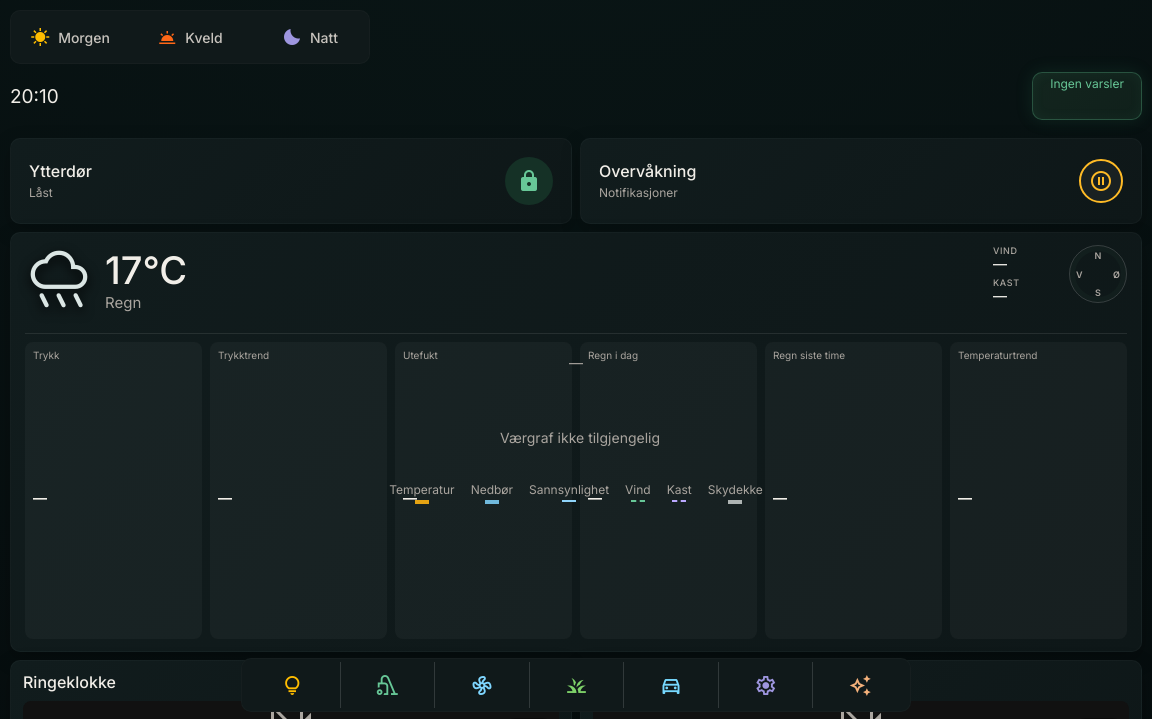
Test: redesigned dashboard › opens the heat-pump card from the bottom fan control and can close it
Click the button named "Styr klimaanlegg": (481, 685) [434,662,529,708]
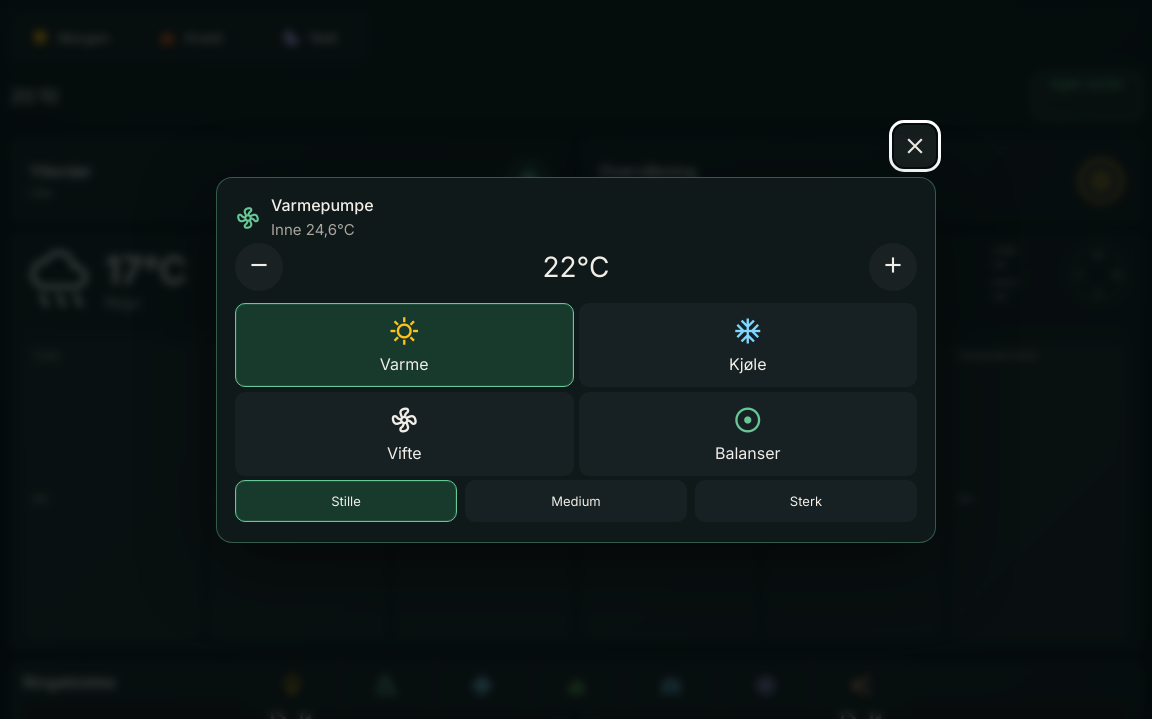
Expected: the dialog "Varmepumpe" is shown
Press Escape in the dialog "Varmepumpe", box [216,177,936,543]
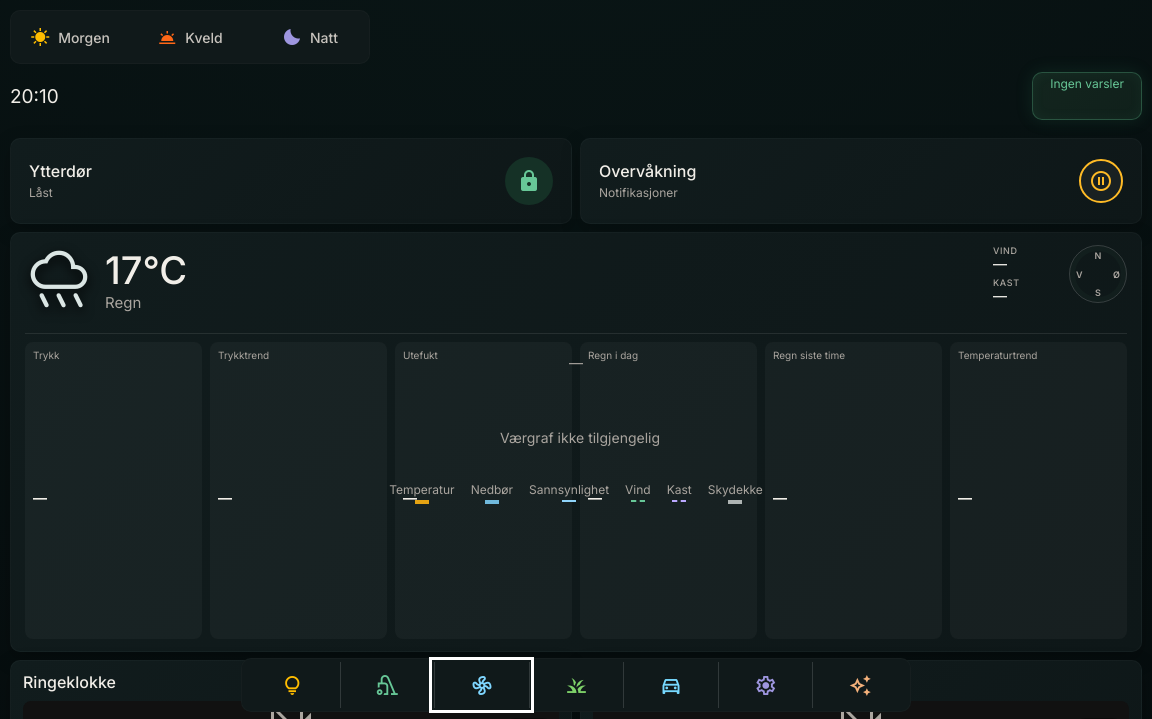
Expected: the heading "Varmepumpe" is gone
Click the button named "Styr klimaanlegg": (481, 685) [434,662,529,708]
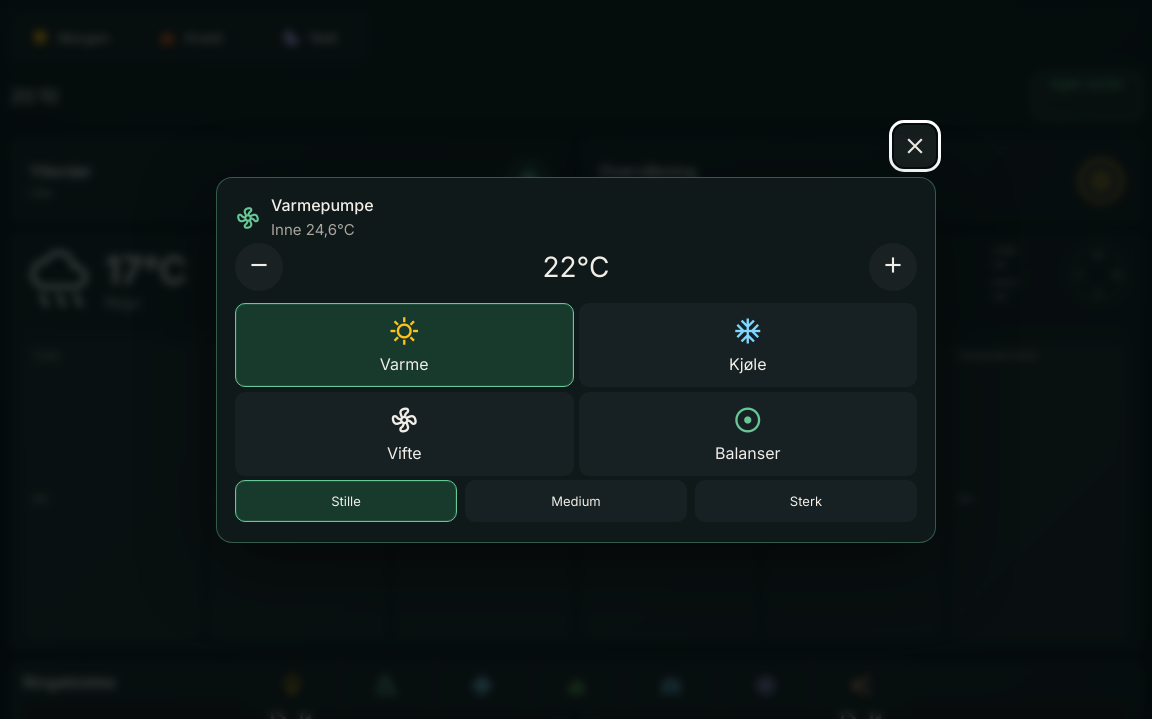
Click the button named "Lukk varmepumpe": (915, 146) [894,125,936,167]
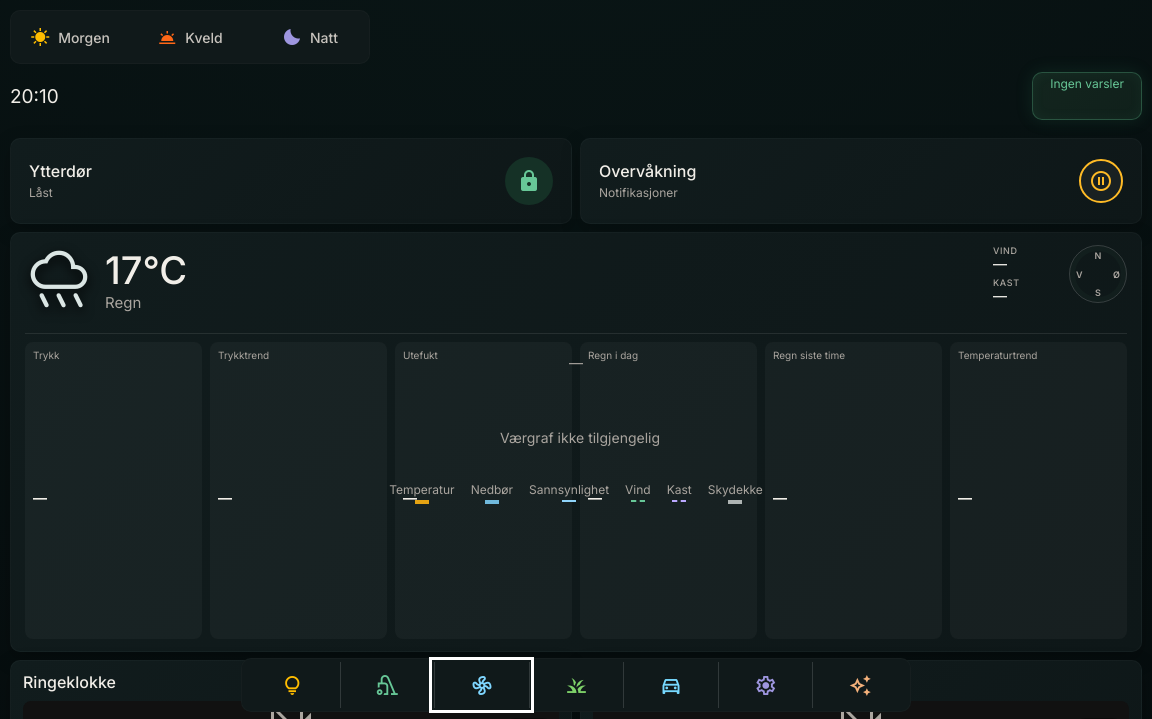
Expected: the heading "Varmepumpe" is gone
